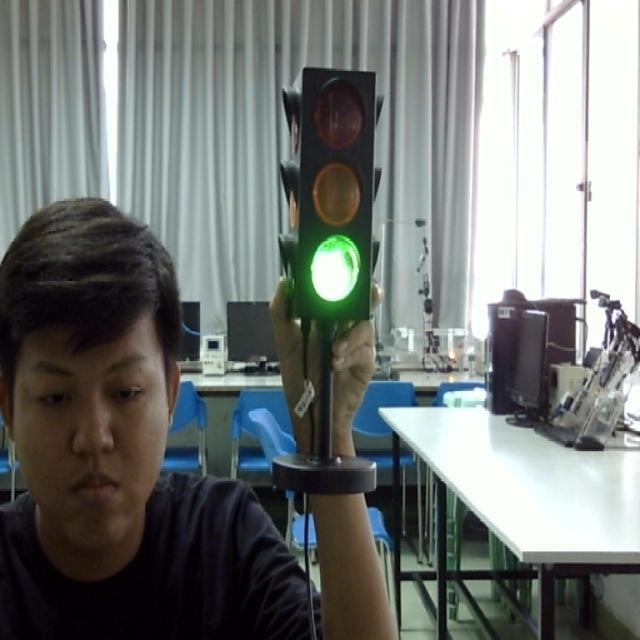green_light: (280, 61, 378, 326)
